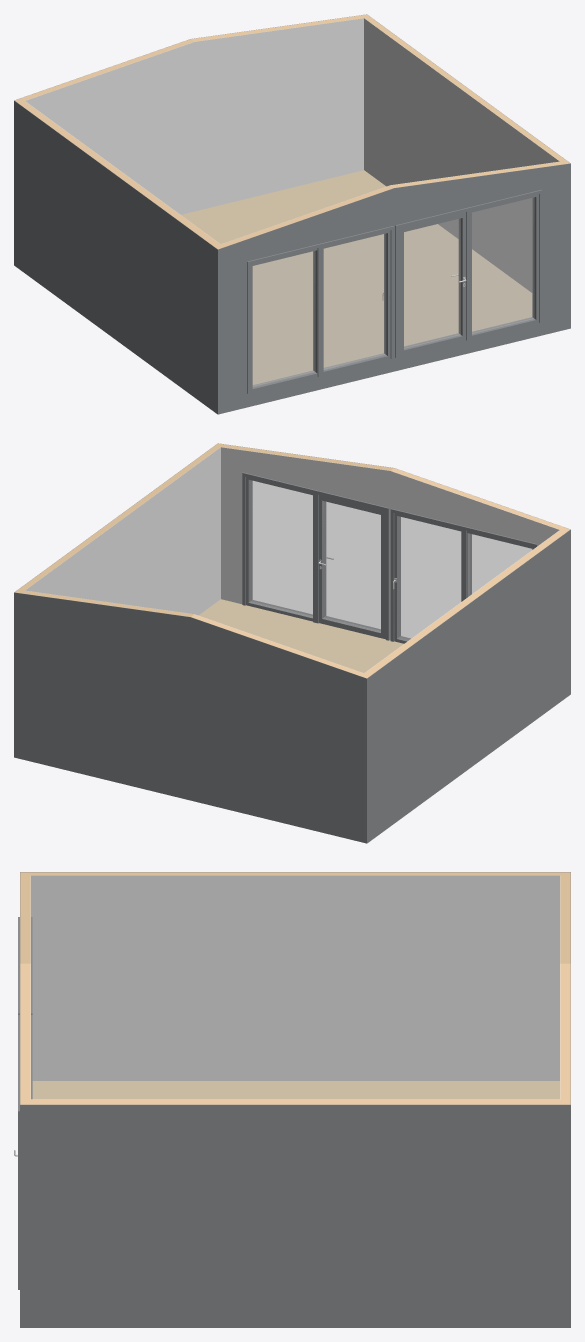
Rendered from a.jotkaite@zpienas.lt_(6,0x6,0)_R00.fbx.
The picture shows the model from 3 angles, top to bottom: view 1: azimuth 30°, elevation 25°; view 2: azimuth 150°, elevation 25°; view 3: azimuth 270°, elevation 25°; orthographic projection. The views are drawn at different scales.
Parts seen in each view (by area): view 1: IfcWall/Part:2397154, IfcWall/Part:2368366, IfcSlab/Part:2319985, IfcWall/Part:2319977, IfcWall/Part:2397151, IfcWindow/Langai (Akrusta):1200x2100x120 (dešininis):2510476, IfcWindow/Langai (Akrusta):1200x2100x120:2511031, IfcWindow/Langai (Akrusta):1200x2100x120:2510951, IfcDoor/Durys išorinės:1200x2100x120 (kairinės):2439432, IfcWall/Part:2397156, IfcWall/Part:2368367, IfcWall/Part:2319978 (+1 smaller); view 2: IfcWall/Part:2397155, IfcWall/Part:2368366, IfcWall/Part:2397151, IfcWall/Part:2319976, IfcWindow/Langai (Akrusta):1200x2100x120:2511031, IfcDoor/Durys išorinės:1200x2100x120 (kairinės):2439432, IfcWindow/Langai (Akrusta):1200x2100x120 (dešininis):2510476, IfcSlab/Part:2319985, IfcWindow/Langai (Akrusta):1200x2100x120:2510951, IfcWall/Part:2397156, IfcWall/Part:2368367, IfcWall/Part:2319978 (+1 smaller); view 3: IfcWall/Part:2397152, IfcWall/Part:2368365, IfcSlab/Part:2319985, IfcWall/Part:2397153, IfcWall/Part:2397156, IfcWall/Part:2319978, IfcWall/Part:2368367.
Boxes of the visible parts, x1,y1,x2,y2 form: IfcWall/Part:2397154: (25,18,363,214); IfcWall/Part:2368366: (14,100,217,413); IfcSlab/Part:2319985: (181,170,532,384); IfcWall/Part:2319977: (217,163,570,414); IfcWall/Part:2397151: (364,18,559,292); IfcWindow/Langai (Akrusta):1200x2100x120 (dešininis):2510476: (313,226,394,376); IfcWindow/Langai (Akrusta):1200x2100x120:2511031: (466,189,542,340); IfcWindow/Langai (Akrusta):1200x2100x120:2510951: (247,243,323,393); IfcDoor/Durys išorinės:1200x2100x120 (kairinės):2439432: (395,207,471,357); IfcWall/Part:2397156: (14,14,370,103); IfcWall/Part:2368367: (18,101,220,246); IfcWall/Part:2319978: (214,161,563,249); IfcWall/Part:2397155: (14,592,367,843); IfcWall/Part:2368366: (367,529,570,842); IfcWall/Part:2397151: (25,447,220,615); IfcWall/Part:2319976: (221,447,559,640); IfcWindow/Langai (Akrusta):1200x2100x120:2511031: (242,472,318,623); IfcDoor/Durys išorinės:1200x2100x120 (kairinės):2439432: (313,489,389,640); IfcWindow/Langai (Akrusta):1200x2100x120 (dešininis):2510476: (390,508,471,643); IfcSlab/Part:2319985: (198,599,403,672); IfcWindow/Langai (Akrusta):1200x2100x120:2510951: (461,526,537,601); IfcWall/Part:2397156: (15,589,370,678); IfcWall/Part:2368367: (364,530,566,675); IfcWall/Part:2319978: (221,444,570,532); IfcWall/Part:2397152: (20,1104,570,1327); IfcWall/Part:2368365: (31,875,559,1080); IfcSlab/Part:2319985: (32,1081,559,1099); IfcWall/Part:2397153: (20,1099,560,1104); IfcWall/Part:2397156: (560,872,570,1104); IfcWall/Part:2319978: (20,872,30,1099); IfcWall/Part:2368367: (30,872,560,875).
Size of the model in its own units: 600 by 298 by 607.
